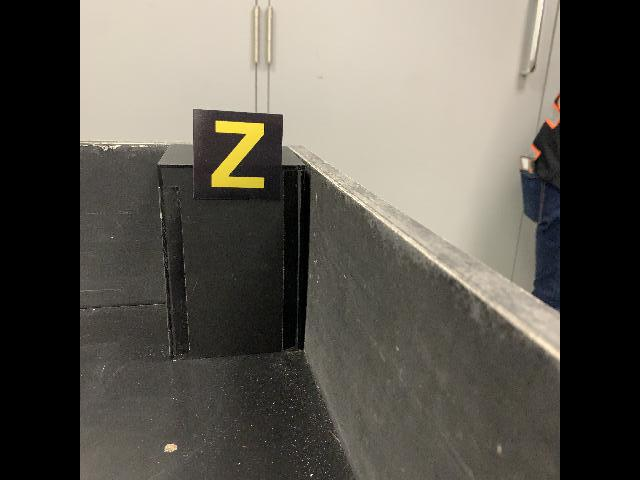z: (192, 108, 284, 203)
